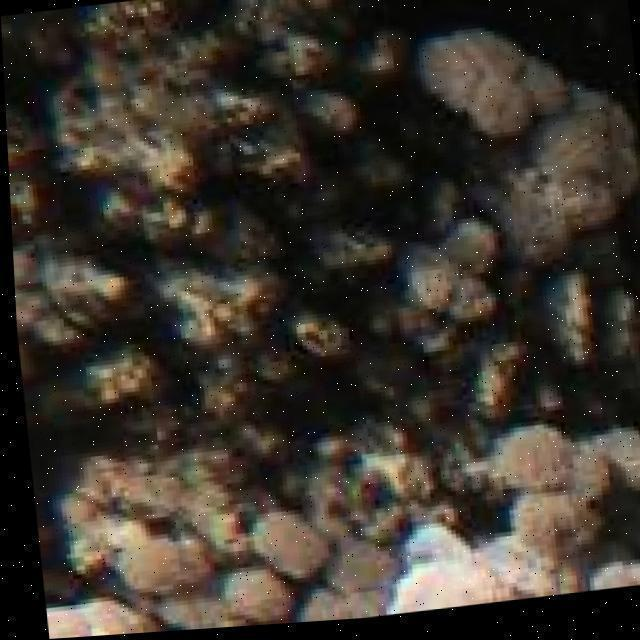Dead Coral: (1, 0, 640, 401)
